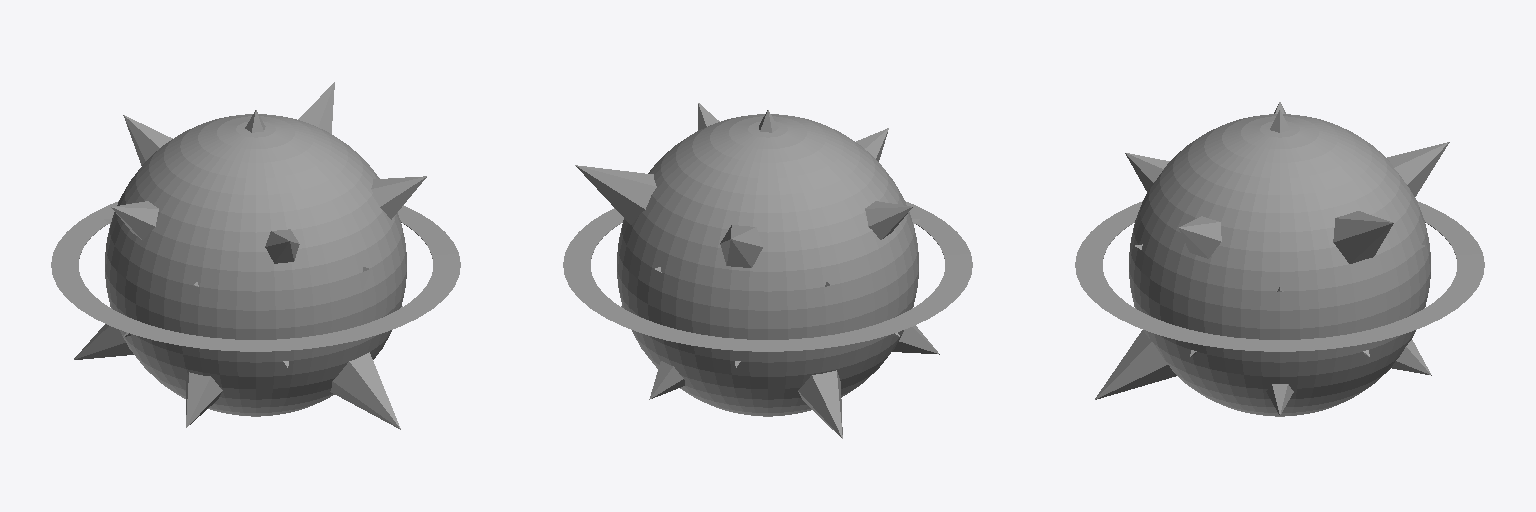
File: explo2.obj
The picture shows the model from 3 angles: view 1: azimuth 30°, elevation 25°; view 2: azimuth 150°, elevation 25°; view 3: azimuth 270°, elevation 25°; orthographic projection.
Visible parts, largest first — view 1: 棱角球.002; view 2: 棱角球.002; view 3: 棱角球.002.
Boxes of the visible parts, x1=… form: 棱角球.002: x1=51, y1=82, x2=460, y2=429; 棱角球.002: x1=563, y1=103, x2=972, y2=438; 棱角球.002: x1=1075, y1=102, x2=1484, y2=416.
Bounding box in the file's own units: 3.32 × 2.62 × 3.32.